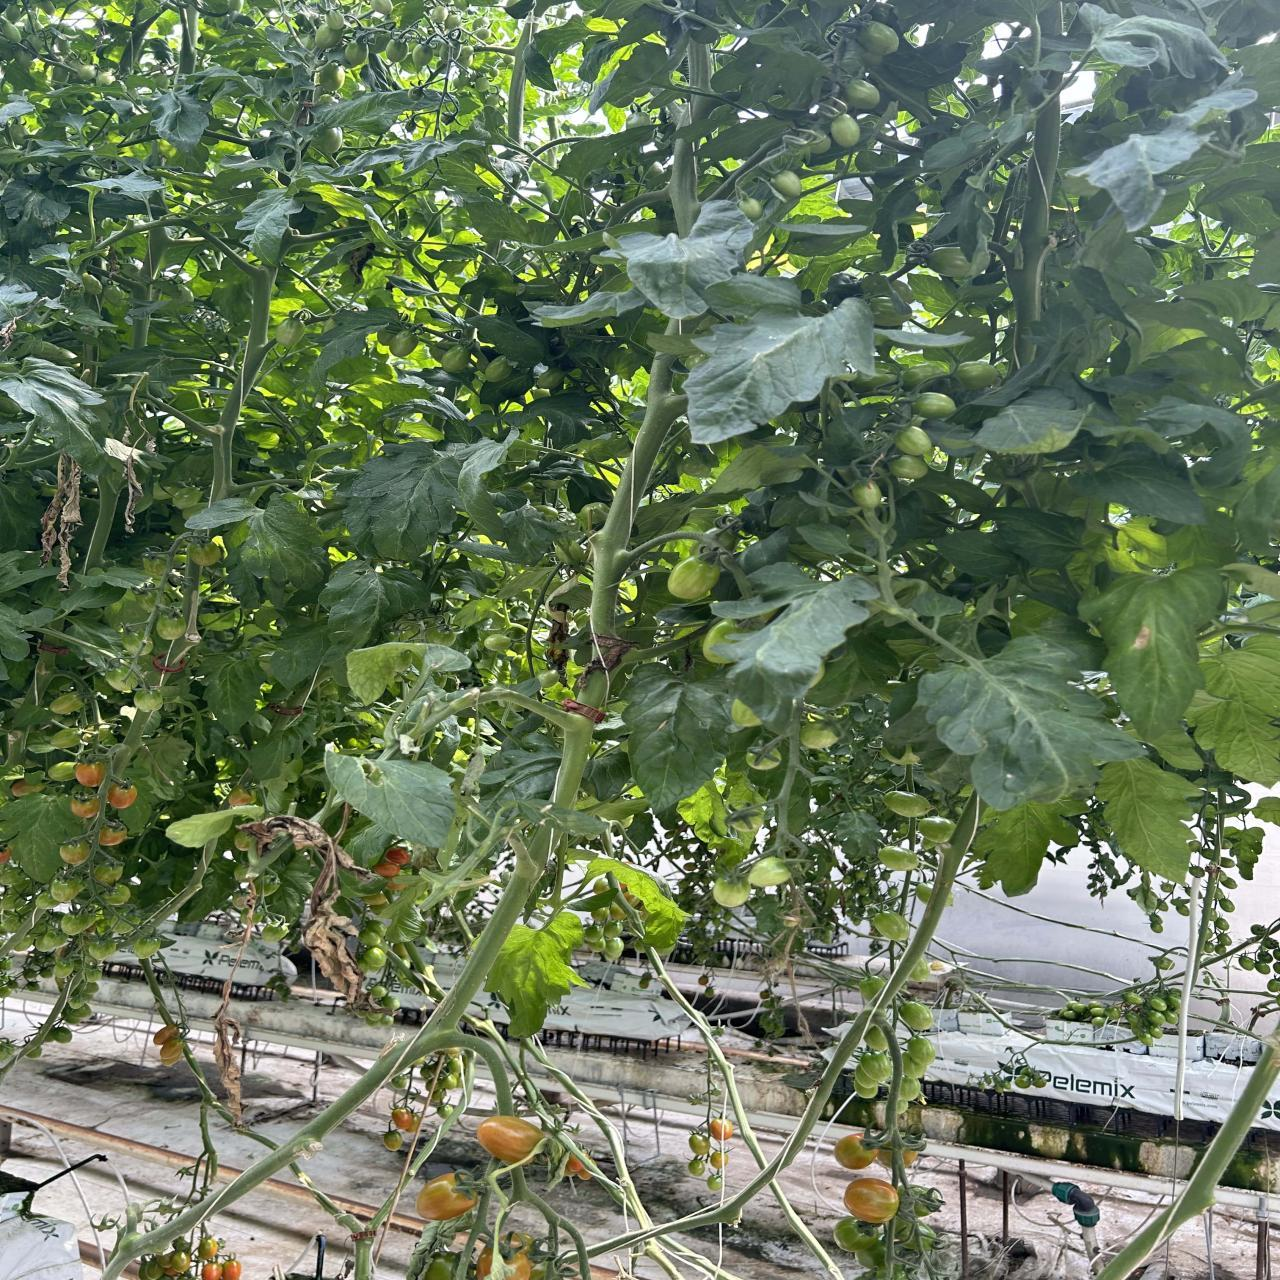Rugose leaf: (338, 441, 461, 559), (240, 496, 327, 588), (346, 641, 470, 702), (166, 809, 244, 849)
Rugose tomato: (844, 1178, 898, 1224), (835, 1130, 877, 1170), (835, 1218, 876, 1254), (104, 665, 144, 693), (48, 693, 84, 715), (392, 1107, 421, 1132), (60, 839, 90, 864), (75, 762, 105, 787), (156, 615, 184, 641), (107, 785, 137, 809), (94, 862, 123, 885), (11, 778, 43, 798), (708, 1118, 734, 1142), (135, 690, 163, 712), (70, 798, 100, 818), (197, 1235, 220, 1260), (689, 1132, 710, 1156), (100, 828, 128, 845), (169, 1250, 190, 1272), (220, 1259, 241, 1280), (382, 1130, 403, 1151), (199, 1260, 222, 1280), (687, 1157, 706, 1177), (706, 1175, 723, 1190)
